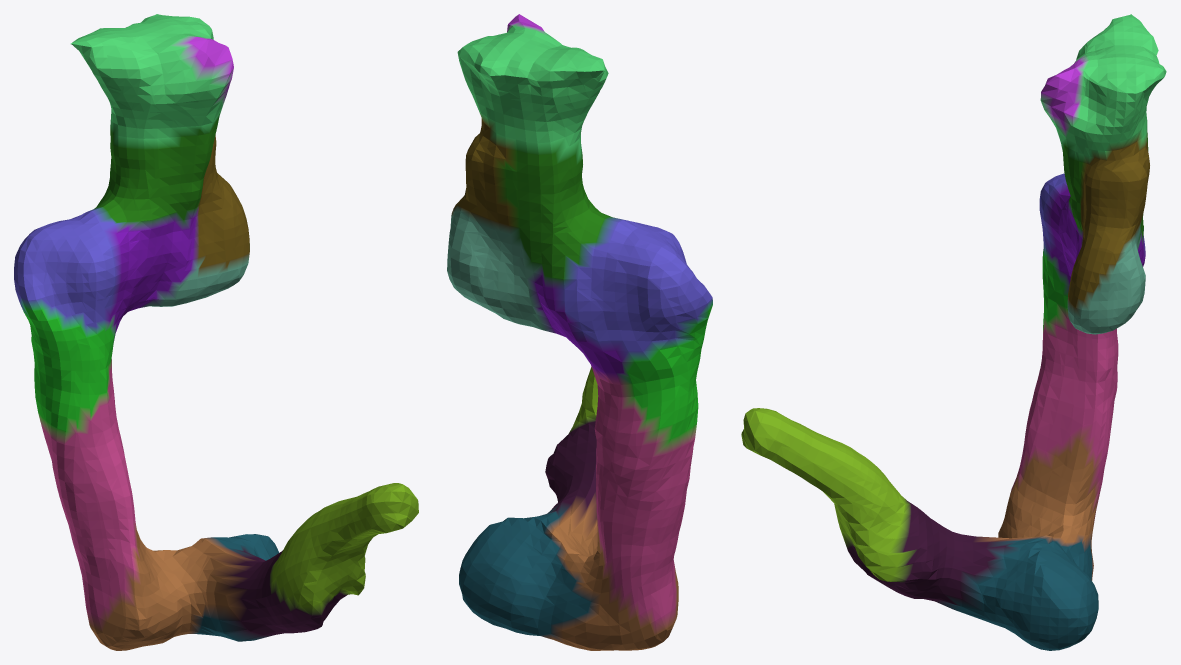
File: fg-00010-geo-color.obj
3 renders of one model, left to right at view 1: azimuth 30°, elevation 25°; view 2: azimuth 150°, elevation 25°; view 3: azimuth 270°, elevation 25°, orthographic. The views are drawn at different scales.
Size of the model in its own units: 0.1184 by 0.2736 by 0.1833.
